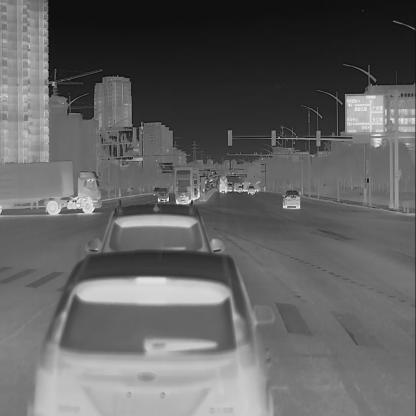car: (21, 245, 271, 411), (87, 204, 228, 280), (282, 188, 302, 209), (174, 185, 190, 205), (157, 186, 169, 202), (247, 185, 255, 194), (152, 186, 159, 196), (227, 182, 233, 192), (237, 184, 243, 192), (212, 179, 217, 187), (206, 184, 210, 190)
truck: (0, 155, 102, 214), (174, 168, 193, 205), (187, 166, 201, 200), (219, 172, 228, 194), (198, 173, 206, 194)
